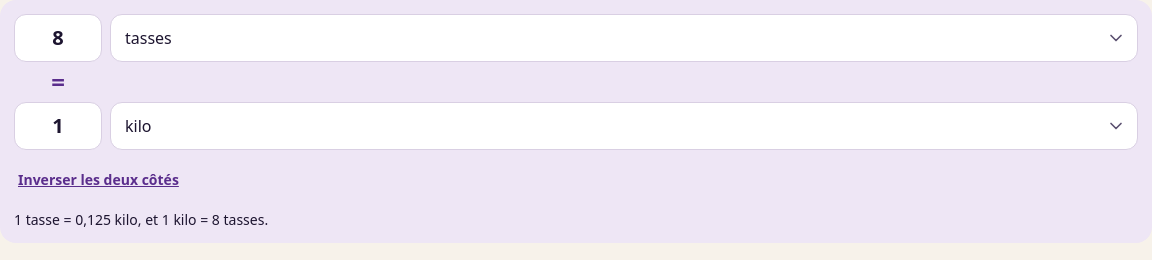
Test: ConversionEquation › inverse les deux côtés, nombres compris
This screenshot has width=1152, height=260.
Click the button "Inverser les deux côtés" at (98, 180), box [14, 158, 183, 202]
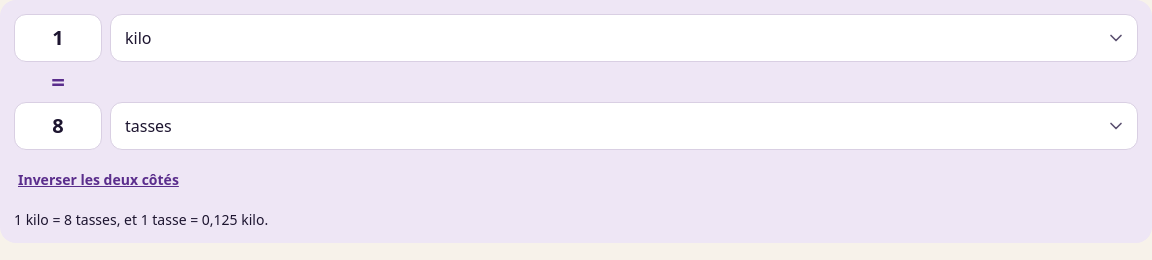
Result: the element showing "1 kilo = 8 tasses, et 1 tasse = 0,125 kilo." is shown at [14, 210, 268, 229]
